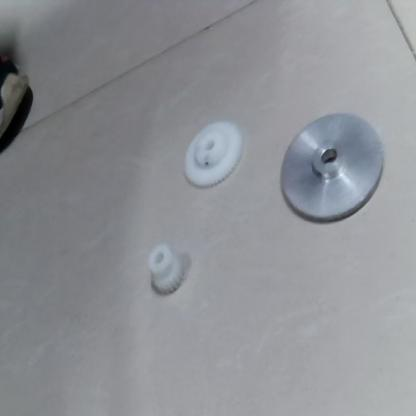FOD: (276, 105, 392, 222), (177, 118, 251, 186), (144, 241, 185, 298)
